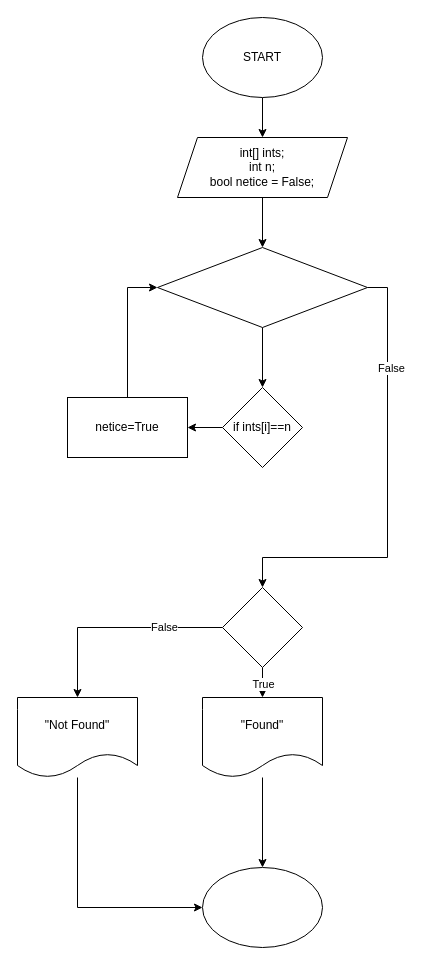
Image size: 422x965. Some labels were removed from this diagram. Each missing label, with the centre of its shape:
"END" belongs at point 262,907.
"for(int i=0;i<ints.Length;i++)" belongs at point 262,287.
"netice==true" belongs at point 262,627.
